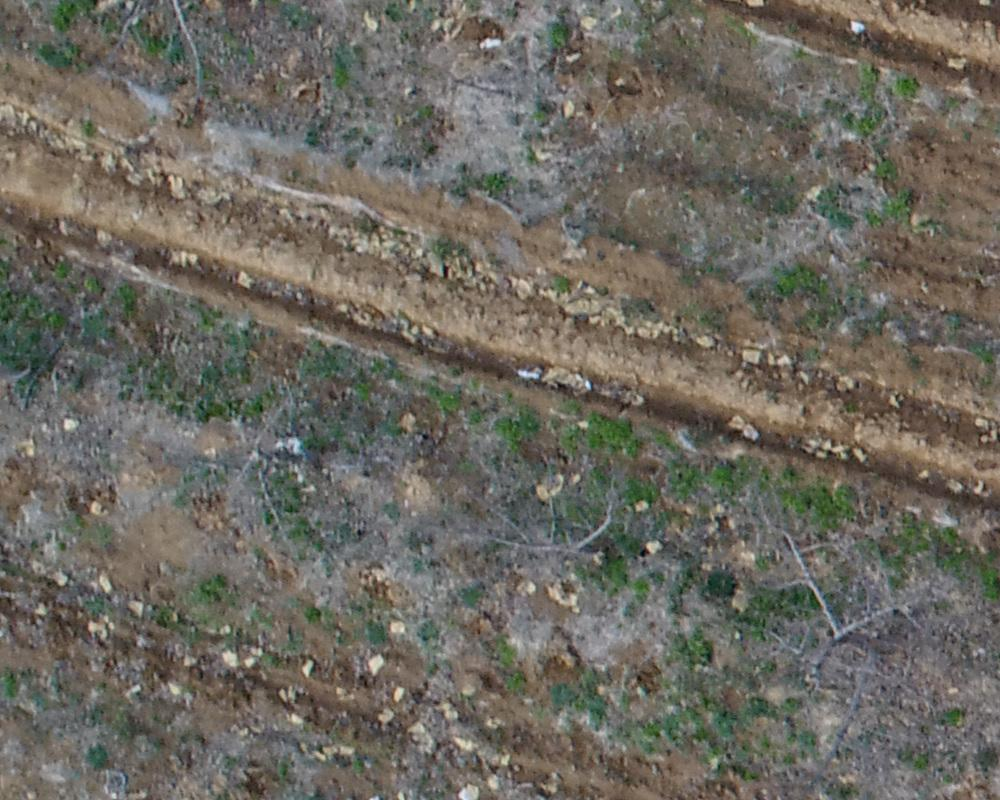apple: (717, 514, 944, 717), (444, 470, 652, 600)
